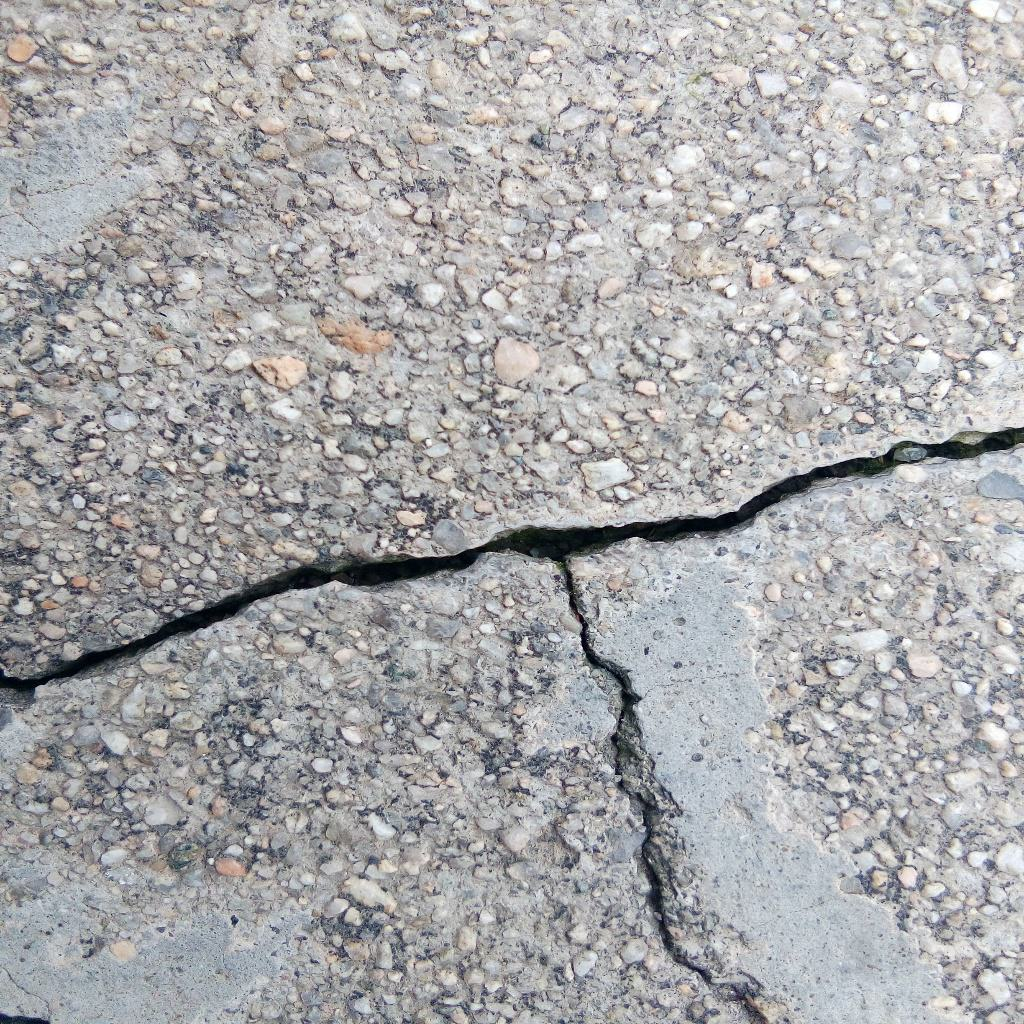Crack: (565, 567, 768, 1024), (1, 530, 565, 682), (564, 427, 1024, 564)
